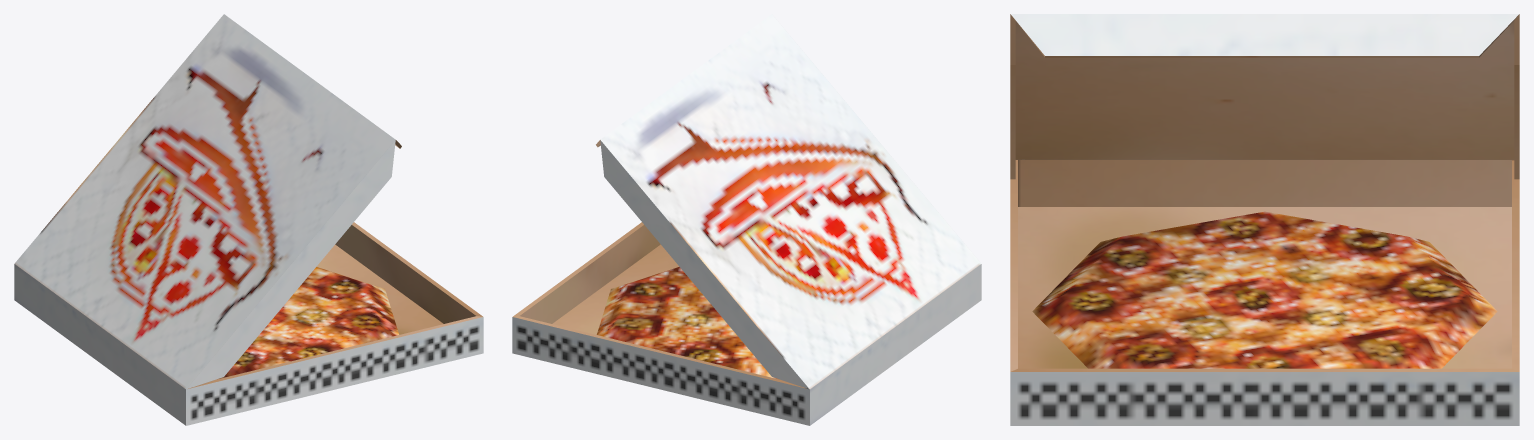
Rendered from Box_Pizza-col.glb.
3 views of the same model, side by side, from view 1: azimuth 30°, elevation 25°; view 2: azimuth 150°, elevation 25°; view 3: azimuth 270°, elevation 25° (orthographic). The views are drawn at different scales.
Visible parts, largest first — view 1: Box_Pizza-col; view 2: Box_Pizza-col; view 3: Box_Pizza-col.
Boxes of the visible parts, bbox=[...] form: Box_Pizza-col: bbox=[14, 14, 483, 425]; Box_Pizza-col: bbox=[512, 14, 981, 425]; Box_Pizza-col: bbox=[1010, 14, 1519, 425].
Size of the model in its own units: 0.9723 by 0.7344 by 0.9723.
1 material, 1 textured.
